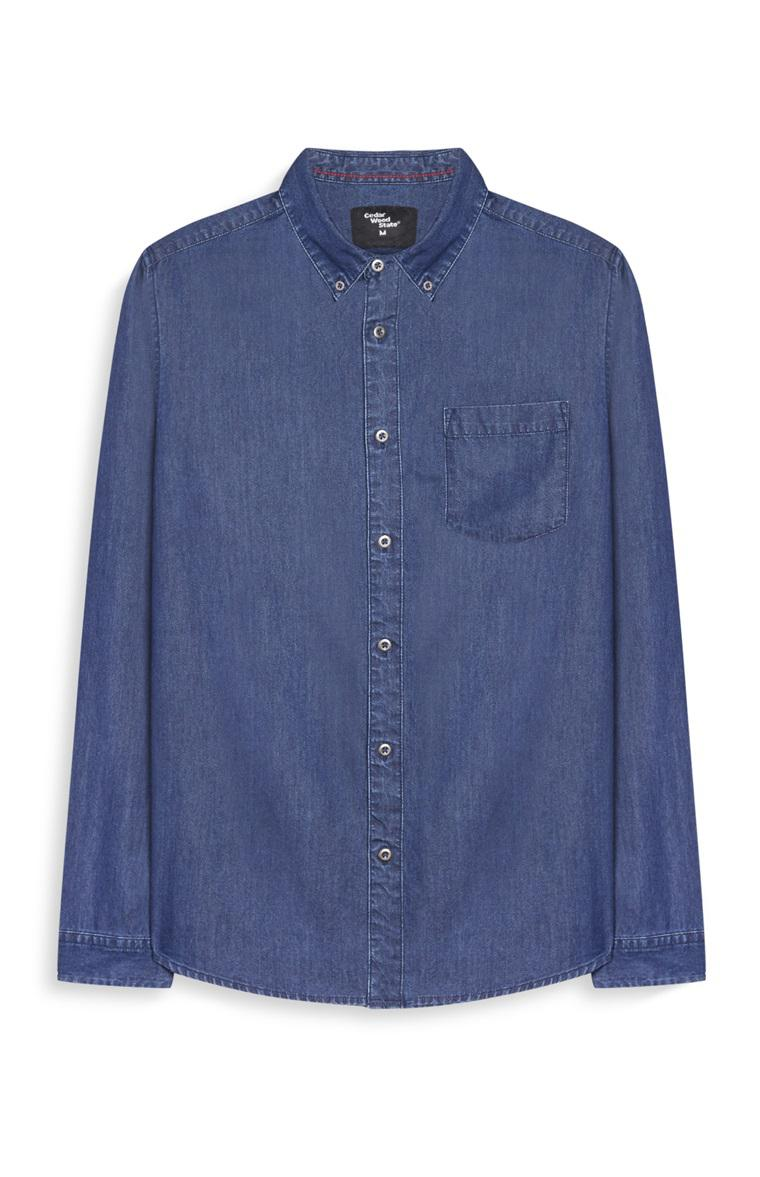teeshirt: (56, 136, 732, 997)
